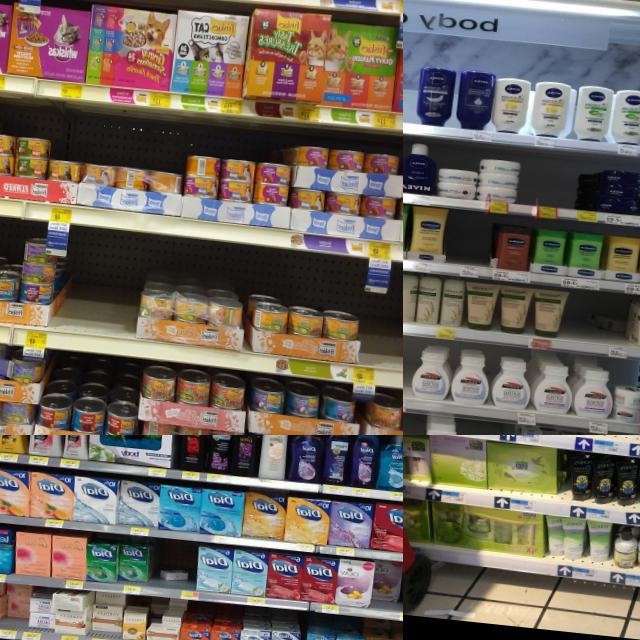100% O.O.S: (176, 541, 197, 599)
100- O.O.S: (65, 230, 141, 356), (354, 293, 403, 388), (515, 154, 577, 220), (445, 213, 491, 279), (564, 288, 590, 354), (403, 61, 418, 133), (456, 419, 513, 435)
